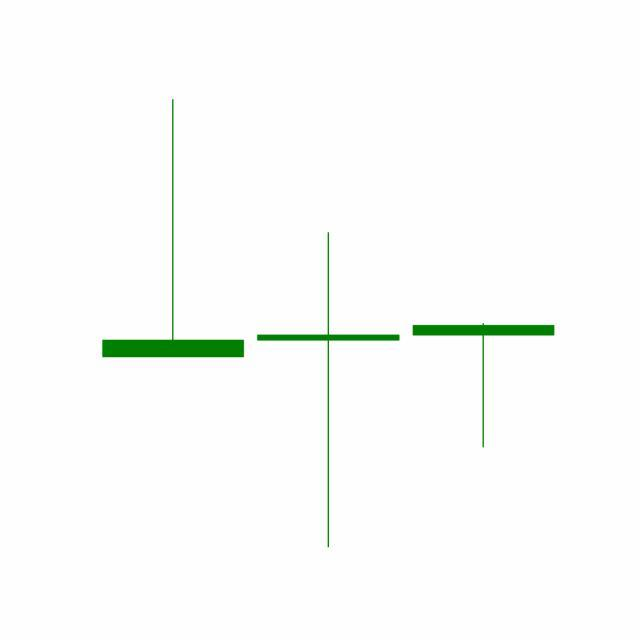Dragonfly Doji: (406, 323, 562, 451)
